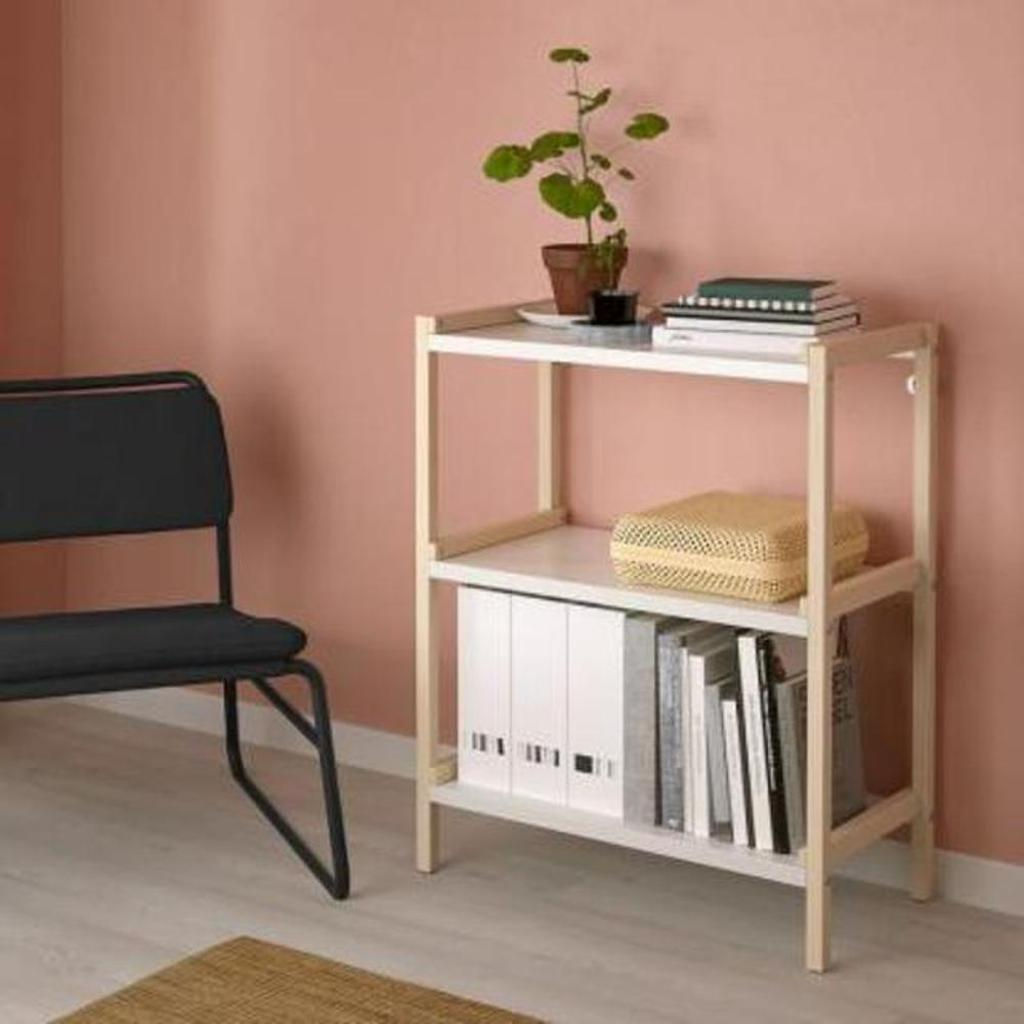lamp: (410, 289, 939, 981)
